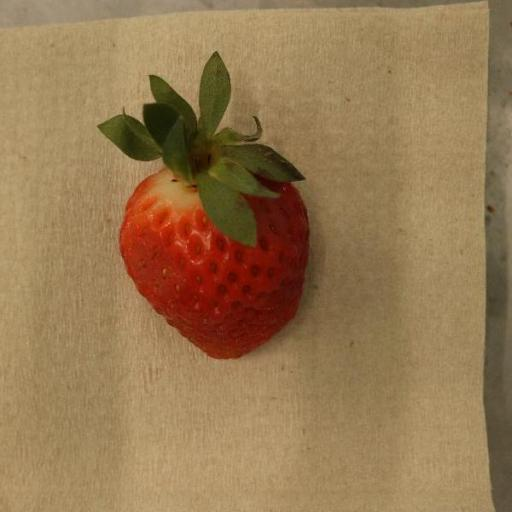Strawberry: (97, 53, 310, 360)
